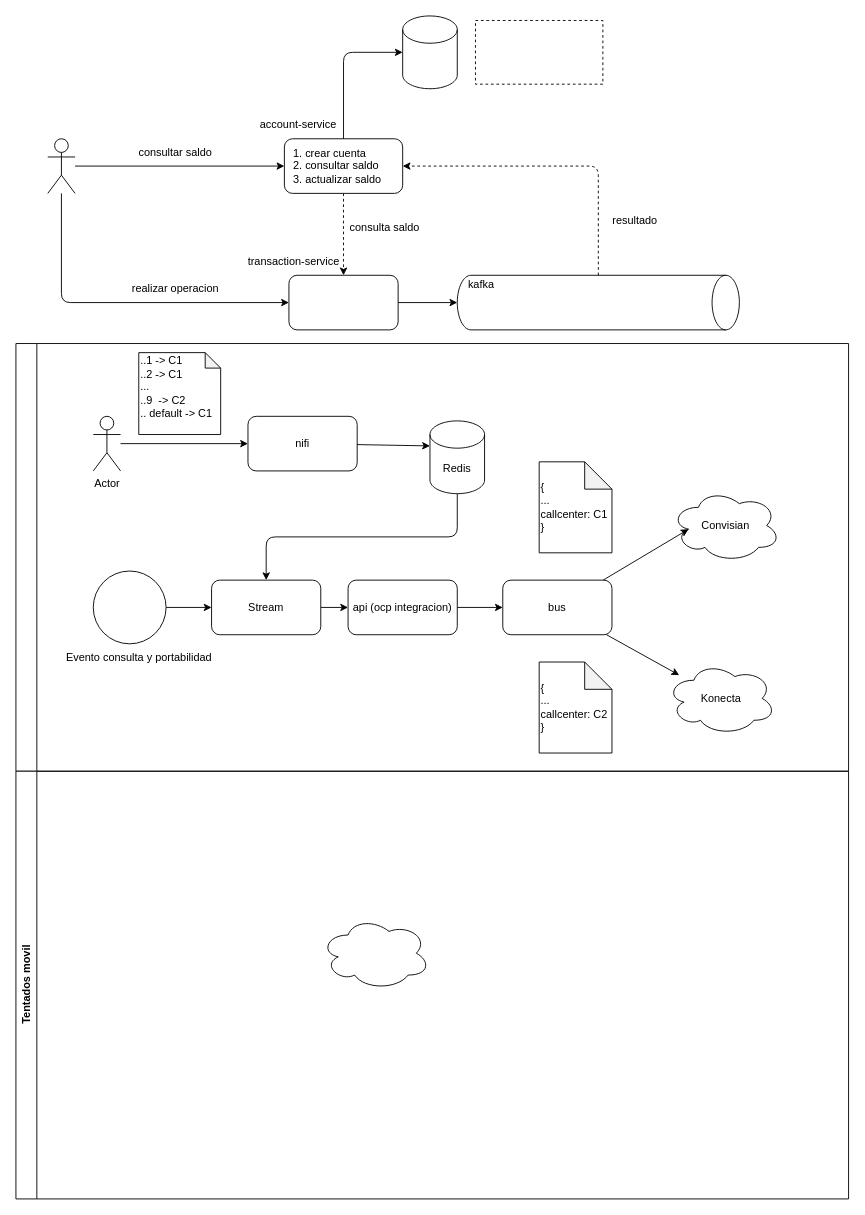
Image size: 865x1215. Some labels were removed from this diagram. Each missing label, with the box of its shape:
1. transferencia entre cuentas: (288, 274, 398, 330)
1. usuarios 2. cuenta bancaria 3. movimientos: (475, 20, 603, 84)
db: (402, 15, 457, 89)
ok: (320, 916, 430, 990)
queue-confirm-transaction: (456, 274, 739, 330)
Retencion de portabilidad: (15, 343, 849, 771)
